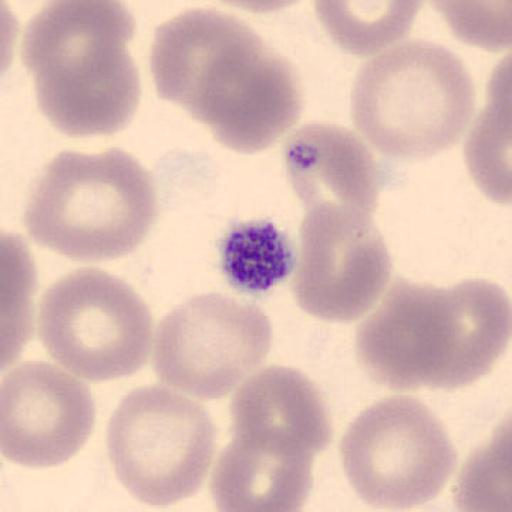Platelet: (216, 214, 300, 296)
RBC: (354, 276, 506, 394), (22, 1, 142, 140), (348, 36, 477, 160), (27, 144, 159, 264), (191, 26, 307, 156), (337, 393, 458, 512), (104, 383, 219, 508), (36, 265, 155, 384), (151, 290, 276, 401), (288, 198, 393, 325), (148, 6, 262, 116), (354, 280, 462, 394), (408, 274, 512, 392), (280, 119, 381, 234), (228, 363, 335, 465), (2, 359, 98, 470), (208, 426, 315, 512), (462, 51, 512, 207), (312, 0, 425, 56), (452, 414, 511, 512), (1, 228, 37, 374), (426, 0, 512, 51), (191, 0, 321, 16), (0, 0, 21, 77)
